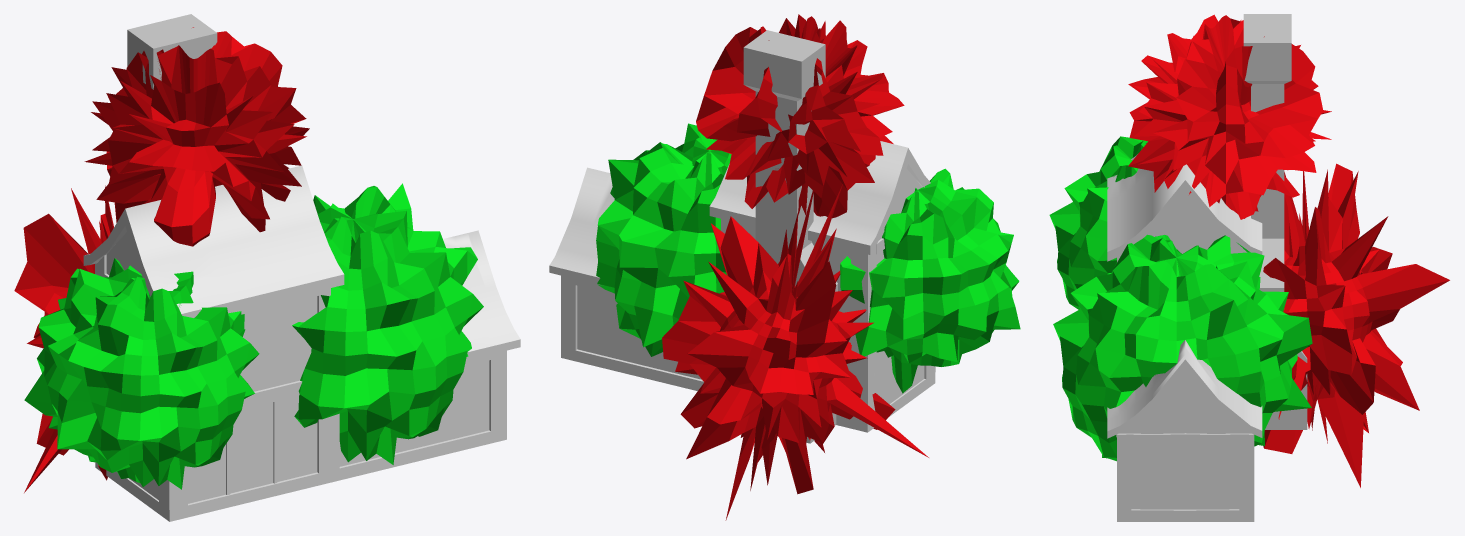
File: casa3terminada.fbx
3 renders of one model, left to right at view 1: azimuth 30°, elevation 25°; view 2: azimuth 150°, elevation 25°; view 3: azimuth 270°, elevation 25°, orthographic. The views are drawn at different scales.
Visible parts, largest first — view 1: Cube, Sphere.001, Sphere, Sphere.003, Sphere.002, Cube.002; view 2: Sphere.002, Cube, Sphere.001, Sphere.003, Sphere, Cube.002; view 3: Sphere, Cube, Sphere.002, Sphere.003, Cube.002, Sphere.001.
Boxes of the visible parts, box(x1,y1,x2,y2) form: Cube: box(83, 165, 520, 521); Sphere.001: box(24, 258, 259, 489); Sphere: box(292, 183, 483, 464); Sphere.003: box(84, 27, 309, 246); Sphere.002: box(14, 185, 116, 492); Cube.002: box(127, 14, 217, 89); Sphere.002: box(662, 184, 928, 520); Cube: box(549, 141, 935, 432); Sphere.001: box(840, 168, 1020, 393); Sphere.003: box(696, 14, 904, 218); Sphere: box(596, 123, 731, 356); Cube.002: box(743, 30, 837, 443); Sphere: box(1053, 234, 1312, 461); Cube: box(1107, 154, 1262, 521); Sphere.002: box(1263, 163, 1449, 487); Sphere.003: box(1128, 14, 1331, 219); Cube.002: box(1243, 14, 1307, 429); Sphere.001: box(1049, 136, 1147, 309).
Bounding box in the file's own units: 820 × 868 × 686.
